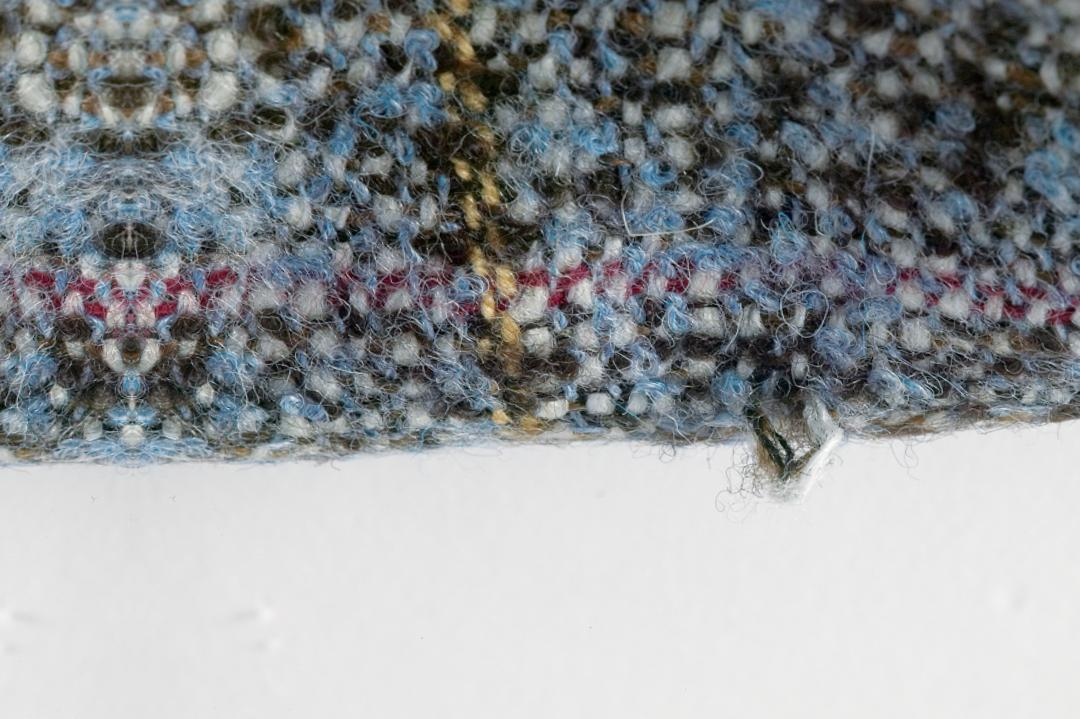snag: (721, 394, 861, 514)
